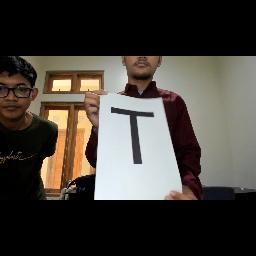t: (106, 103, 164, 169)
